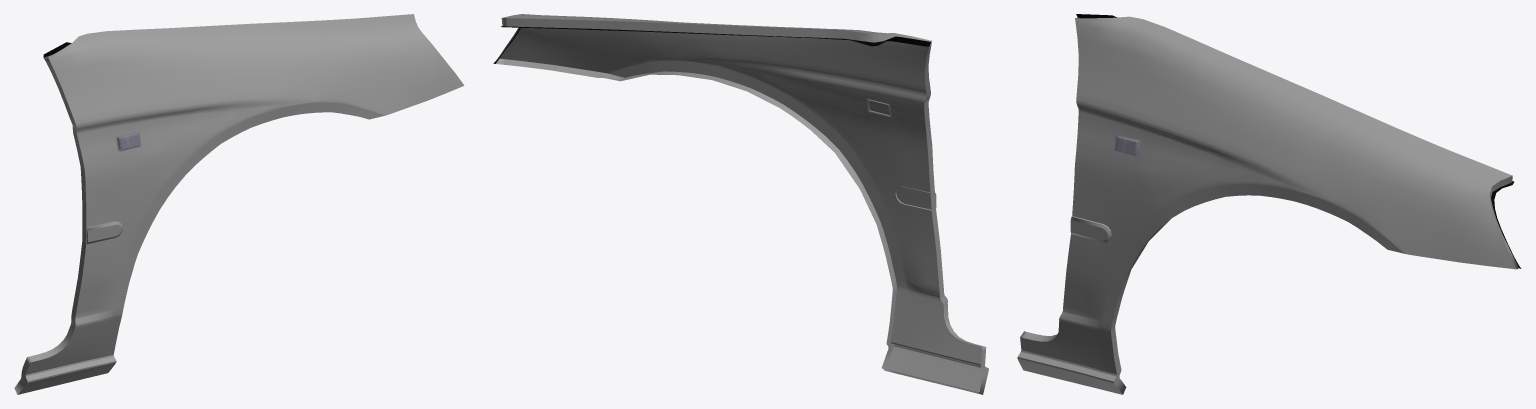
3 renders of one model, left to right at view 1: azimuth 30°, elevation 25°; view 2: azimuth 150°, elevation 25°; view 3: azimuth 330°, elevation 25°, orthographic. The views are drawn at different scales.
Parts seen in each view (by area): view 1: H026_141B_R_1_DaS_H026_141B_R, H026_141B_R_1_DaS_H026_141B_R_E; view 2: H026_141B_R_1_DaS_H026_141B_R, H026_141B_R_1_DaS_H026_141B_R_E, H026_141B_R_H026_141B_R_4_D; view 3: H026_141B_R_1_DaS_H026_141B_R, H026_141B_R_1_DaS_H026_141B_R_E, H026_141B_R_H026_141B_R_3_DTaSI.
Boxes of the visible parts, x1,y1,x2,y2 form: H026_141B_R_1_DaS_H026_141B_R: (18,14,464,394); H026_141B_R_1_DaS_H026_141B_R_E: (14,54,122,394); H026_141B_R_1_DaS_H026_141B_R: (499,14,982,392); H026_141B_R_1_DaS_H026_141B_R_E: (496,18,988,394); H026_141B_R_H026_141B_R_4_D: (493,26,930,63); H026_141B_R_1_DaS_H026_141B_R: (1017,16,1516,394); H026_141B_R_1_DaS_H026_141B_R_E: (1017,17,1518,394); H026_141B_R_H026_141B_R_3_DTaSI: (1114,135,1141,156).
Size of the model in its own units: 124 by 86.25 by 18.67.
